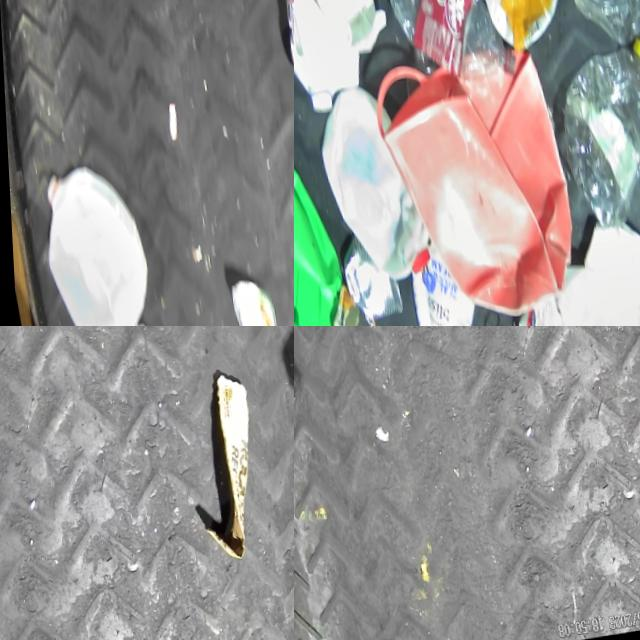can: (329, 228, 400, 326), (220, 273, 280, 326), (316, 281, 359, 326)
milk_jug: (304, 78, 433, 293), (26, 155, 157, 326), (500, 258, 634, 326), (294, 0, 367, 123), (568, 204, 640, 326)
non_white_jug: (358, 17, 581, 326), (294, 124, 355, 326)
plastic_bottle: (542, 35, 640, 241), (376, 0, 516, 101)
